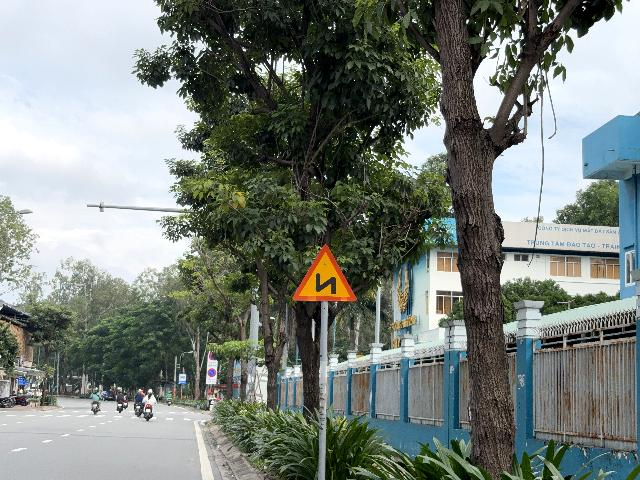nhieu-cho-ngoat-nguy-hiem-lien-tiep: (293, 244, 357, 301)
